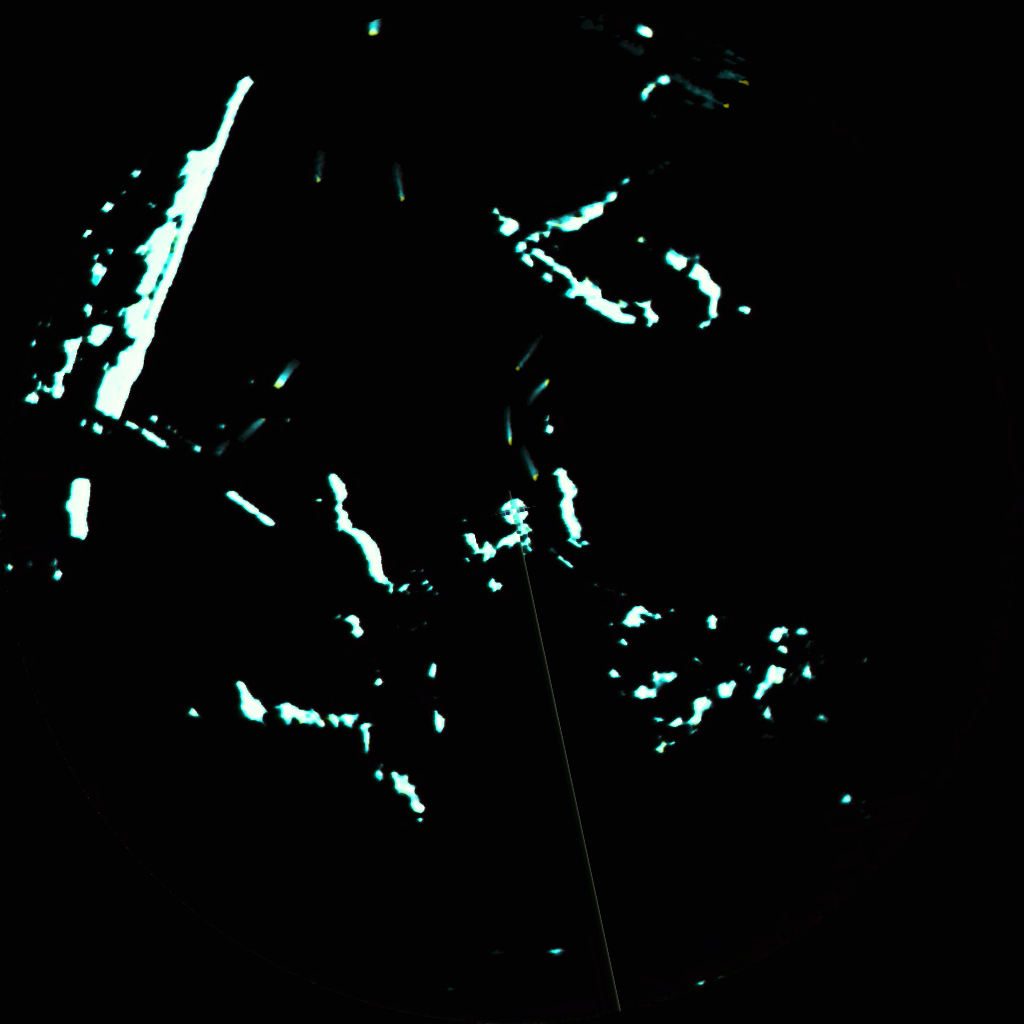B: (242, 415, 262, 439), (274, 369, 299, 388), (526, 381, 549, 400), (391, 171, 405, 201), (502, 412, 515, 440), (525, 454, 538, 481), (516, 350, 535, 367), (210, 441, 226, 460), (310, 156, 317, 184)
